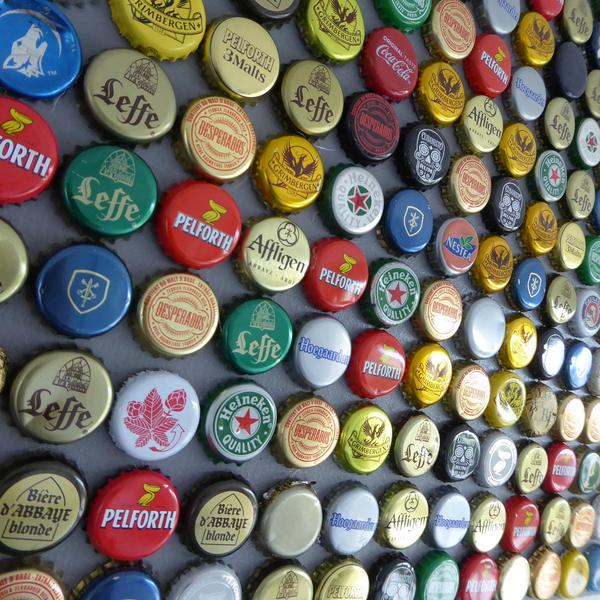heineken: (206, 378, 277, 466), (371, 255, 421, 332)
leffe: (13, 343, 112, 444), (85, 47, 178, 144), (278, 56, 344, 135), (398, 414, 440, 477), (546, 97, 578, 147), (548, 275, 579, 325), (517, 443, 547, 494)
